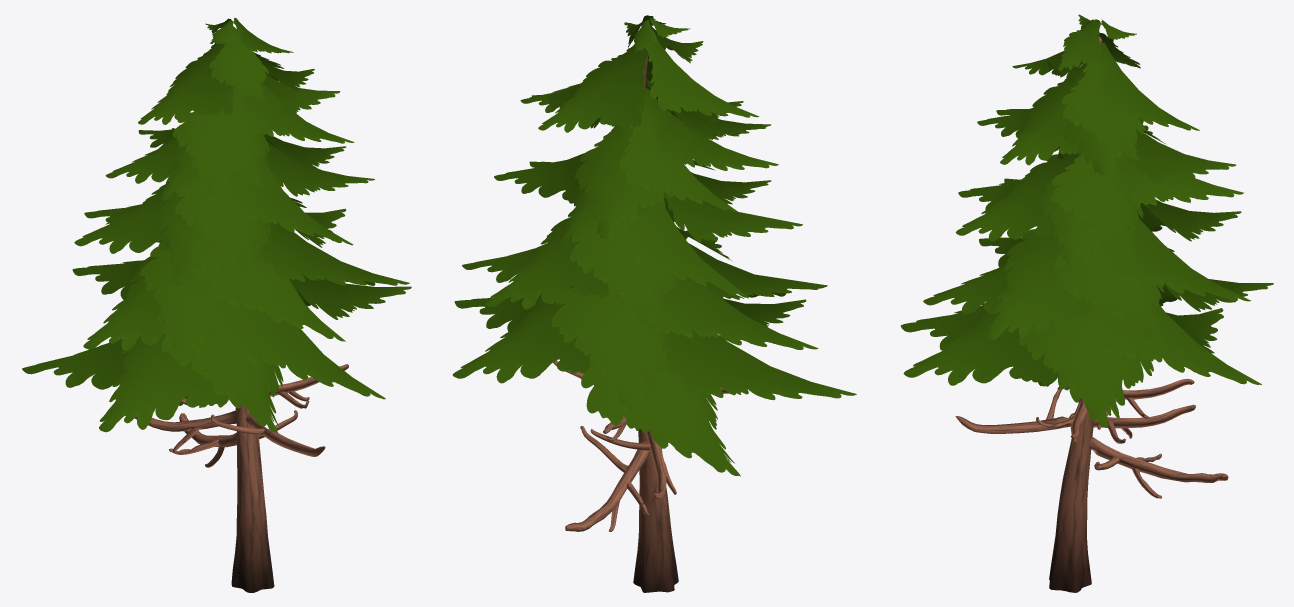
The model's file is Pine_1.glb.
3 views of the same model, side by side, from view 1: azimuth 30°, elevation 25°; view 2: azimuth 150°, elevation 25°; view 3: azimuth 270°, elevation 25° (orthographic). The views are drawn at different scales.
Parts seen in each view (by area): view 1: Pine_1; view 2: Pine_1; view 3: Pine_1.
Boxes of the visible parts, bbox=[...] form: Pine_1: bbox=[22, 18, 411, 592]; Pine_1: bbox=[452, 15, 856, 592]; Pine_1: bbox=[900, 14, 1273, 592].
Size of the model in its own units: 4.94 by 7.32 by 4.54.
2 materials, 2 textured.
